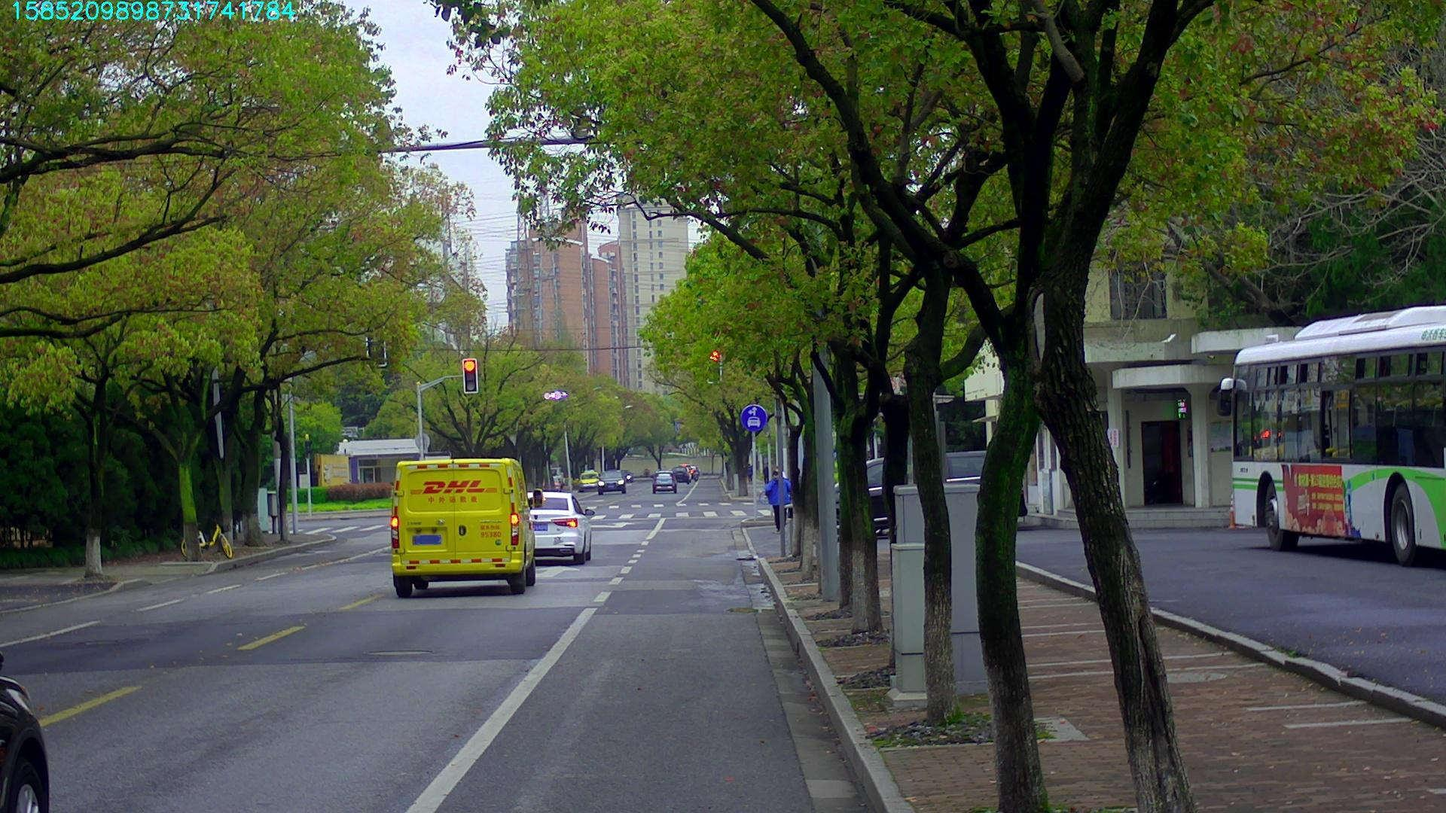red: (463, 358, 476, 392), (708, 350, 718, 382)
